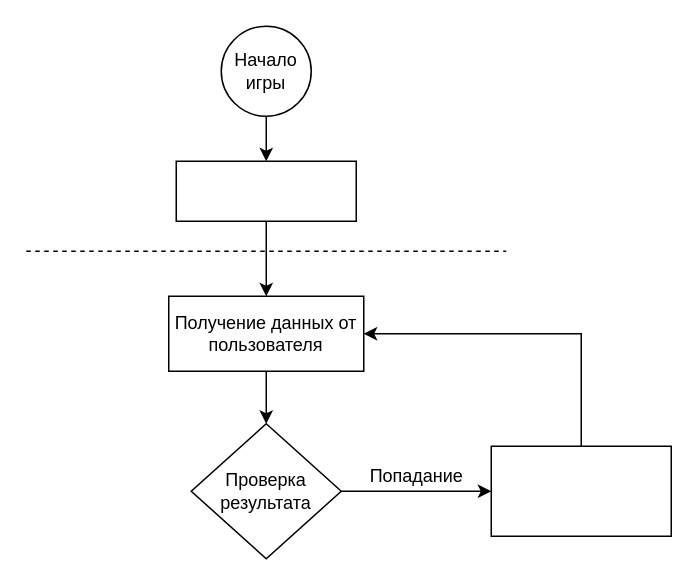
This 698x585 diagram has some shape labels left out. The centre of each missing label's shape, as x and y in pixels:
"Комп расставляет корабли" goes at [265,190].
"Отметить попадание" goes at [580,490].
